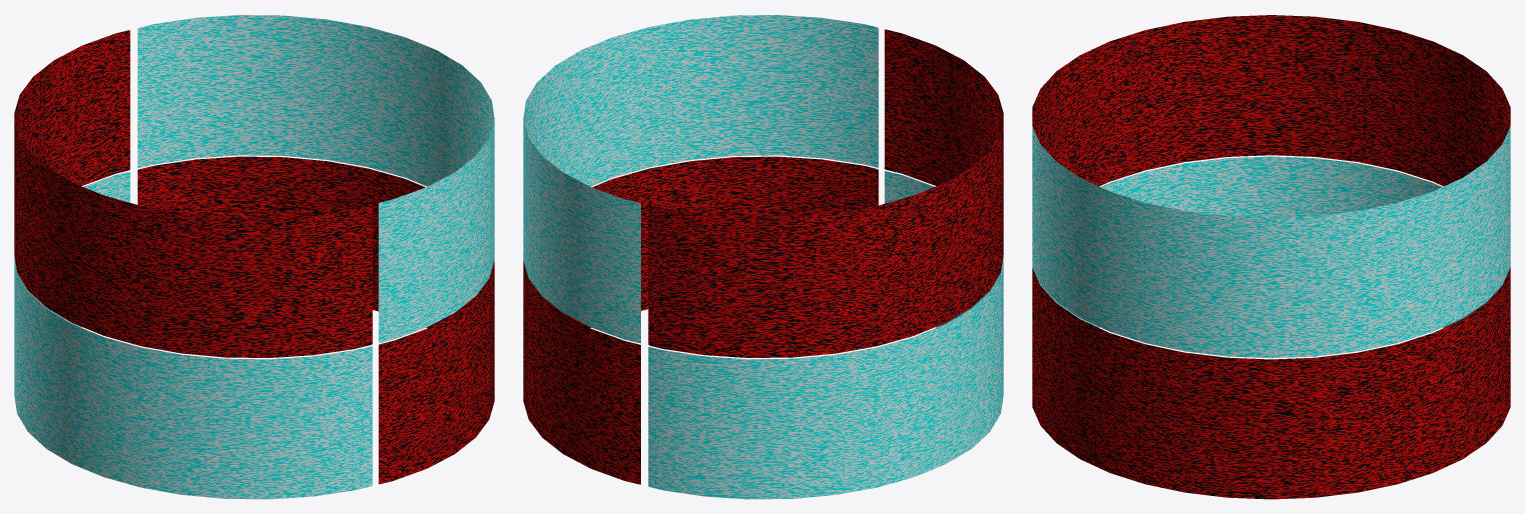
The model's file is SM_Cylinder_01_HJS.fbx.
3 renders of one model, left to right at view 1: azimuth 30°, elevation 25°; view 2: azimuth 150°, elevation 25°; view 3: azimuth 270°, elevation 25°, orthographic.
Parts seen in each view (by area): view 1: SM_Cylinder_01_HJS; view 2: SM_Cylinder_01_HJS; view 3: SM_Cylinder_01_HJS.
Part boxes in pixels (left/top/right/bottom): SM_Cylinder_01_HJS: left=14, top=15, right=494, bottom=499; SM_Cylinder_01_HJS: left=523, top=15, right=1003, bottom=499; SM_Cylinder_01_HJS: left=1032, top=15, right=1510, bottom=499.
Size of the model in its own units: 508 by 330 by 506.
